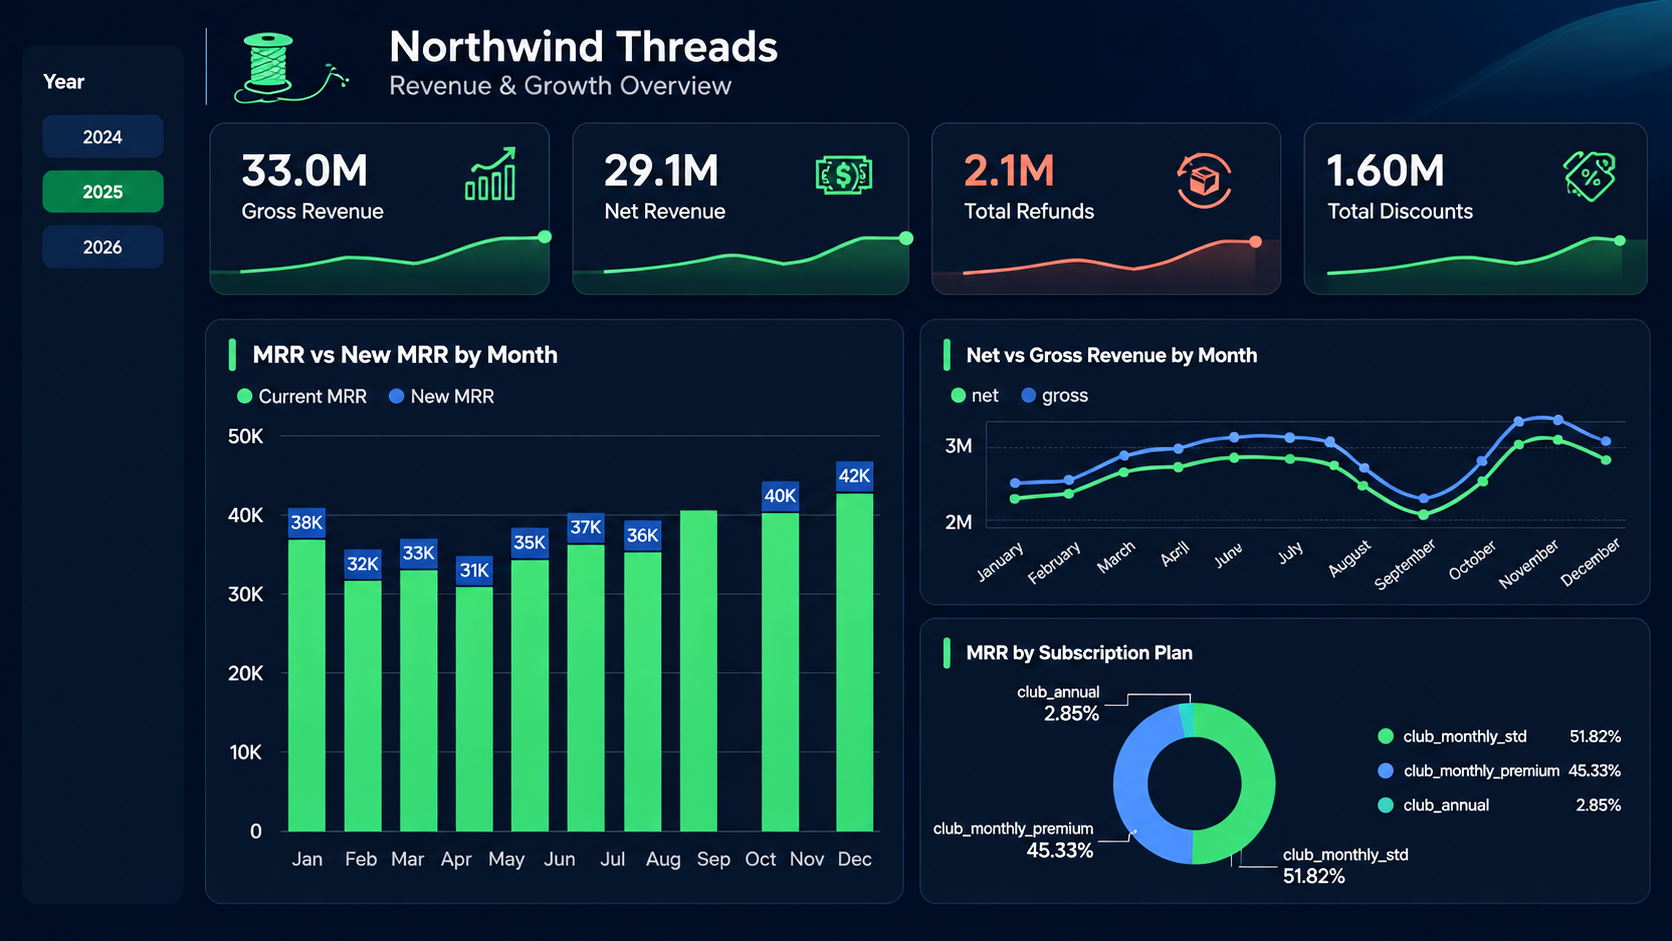

This screenshot's page, from the dashboard's own definition file:
{"tool":"powerbi","page":{"name":"Page 1","canvas":[1280,720],"ordinal":0},"visuals":[{"type":"shape","box":[32,0,1136,688],"z":0},{"type":"shape","box":[640,432,496,240],"z":1000},{"type":"shape","box":[192,224,432,448],"z":2000},{"type":"shape","box":[640,224,496,192],"z":3000},{"type":"shape","box":[176,48,256,176],"z":4000},{"type":"cardVisual","fields":{"Data":["FCT_GROSS_REVENUE.GROSS"]},"box":[155,61,176,80],"z":5000},{"type":"textbox","box":[192,112,96,64],"z":6000},{"type":"image","box":[320,80,80,48],"z":7000},{"type":"shape","box":[416,48,256,176],"z":8000},{"type":"cardVisual","fields":{"Data":["FCT_GROSS_REVENUE.NET"]},"box":[400,59,176,80],"z":9000},{"type":"textbox","box":[417,113,144,64],"z":10000},{"type":"image","box":[560,80,80,48],"z":11000},{"type":"shape","box":[656,48,256,176],"z":12000},{"type":"cardVisual","fields":{"Data":["Sum(FCT_GROSS_REVENUE.TOTAL_REFUNDS)"]},"box":[638,60,176,80],"z":13000},{"type":"textbox","box":[655,113,144,80],"z":14000},{"type":"image","box":[800,80,96,48],"z":15000},{"type":"lineChart","title":"net and gross by month","fields":{"Y":["FCT_GROSS_REVENUE.NET","FCT_GROSS_REVENUE.GROSS"],"Category":["fiscal_main.Month_start.Variation.Date Hierarchy.Month"]},"box":[656,240,464,176],"z":16000},{"type":"columnChart","title":"mrr vs new mrr by month","fields":{"Category":["fiscal_calendar.date_day.Variation.Date Hierarchy.Month"],"Y":["FCT_MRR_MOVEMENTS.Total_MRR","FCT_MRR_MOVEMENTS.NEW_MRR"]},"box":[215.4,244.5,384,416],"z":17000},{"type":"lineChart","fields":{"Y":["FCT_GROSS_REVENUE.GROSS"],"Category":["fiscal_main.Month_start.Variation.Date Hierarchy.Month"]},"box":[272,96,160,112],"z":18000},{"type":"lineChart","fields":{"Y":["FCT_GROSS_REVENUE.NET"],"Category":["fiscal_main.Month_start.Variation.Date Hierarchy.Month"]},"box":[521,81,144,128],"z":19000},{"type":"lineChart","fields":{"Category":["fiscal_main.Month_start.Variation.Date Hierarchy.Month"],"Y":["Sum(FCT_GROSS_REVENUE.TOTAL_REFUNDS)"]},"box":[747,48,160,160],"z":20000},{"type":"shape","box":[894.7,49.8,256,176],"z":21000},{"type":"cardVisual","fields":{"Data":["Sum(FCT_GROSS_REVENUE.TOTAL_DISCOUNTS)"]},"box":[878.7,60.8,176,80],"z":22000},{"type":"textbox","box":[895.7,114.8,144,64],"z":23000},{"type":"lineChart","fields":{"Category":["fiscal_main.Month_start.Variation.Date Hierarchy.Month"],"Y":["Sum(FCT_GROSS_REVENUE.TOTAL_DISCOUNTS)"]},"box":[992,112,154,98],"z":24000},{"type":"donutChart","title":"total mrr by Plan ID","fields":{"Y":["FCT_MRR_MOVEMENTS.Total_MRR"],"Category":["FCT_MRR_MOVEMENTS.PLAN_ID"]},"box":[656,448,464,208],"z":25000},{"type":"image","box":[1056,80,64,48],"z":26000},{"type":"shape","box":[48,16,128,656],"z":27000},{"type":"textbox","box":[188,7,960,48],"z":28000},{"type":"listSlicer","fields":{"Values":["fiscal_calendar.date_day.Variation.Date Hierarchy.Year"]},"box":[52,32,112,320],"z":29000}]}

Visuals, with their boxes in screenshot pixels (x1, y1, x2, y2), scaled from the page's 1280x720 canvas onto the 1672x941 screenshot:
shape: (left=42, top=0, right=1526, bottom=899)
shape: (left=836, top=565, right=1484, bottom=878)
shape: (left=251, top=293, right=815, bottom=878)
shape: (left=836, top=293, right=1484, bottom=544)
shape: (left=230, top=63, right=564, bottom=293)
cardVisual - FCT_GROSS_REVENUE.GROSS: (left=202, top=80, right=432, bottom=184)
textbox: (left=251, top=146, right=376, bottom=230)
image: (left=418, top=105, right=522, bottom=167)
shape: (left=543, top=63, right=878, bottom=293)
cardVisual - FCT_GROSS_REVENUE.NET: (left=522, top=77, right=752, bottom=182)
textbox: (left=545, top=148, right=733, bottom=231)
image: (left=732, top=105, right=836, bottom=167)
shape: (left=857, top=63, right=1191, bottom=293)
cardVisual - Sum(FCT_GROSS_REVENUE.TOTAL_REFUNDS): (left=833, top=78, right=1063, bottom=183)
textbox: (left=856, top=148, right=1044, bottom=252)
image: (left=1045, top=105, right=1170, bottom=167)
"net and gross by month" lineChart: (left=857, top=314, right=1463, bottom=544)
"mrr vs new mrr by month" columnChart: (left=281, top=320, right=783, bottom=863)
lineChart - FCT_GROSS_REVENUE.GROSS x fiscal_main.Month_start.Variation.Date Hierarchy.Month: (left=355, top=125, right=564, bottom=272)
lineChart - FCT_GROSS_REVENUE.NET x fiscal_main.Month_start.Variation.Date Hierarchy.Month: (left=681, top=106, right=869, bottom=273)
lineChart - fiscal_main.Month_start.Variation.Date Hierarchy.Month x Sum(FCT_GROSS_REVENUE.TOTAL_REFUNDS): (left=976, top=63, right=1185, bottom=272)
shape: (left=1169, top=65, right=1503, bottom=295)
cardVisual - Sum(FCT_GROSS_REVENUE.TOTAL_DISCOUNTS): (left=1148, top=79, right=1378, bottom=184)
textbox: (left=1170, top=150, right=1358, bottom=234)
lineChart - fiscal_main.Month_start.Variation.Date Hierarchy.Month x Sum(FCT_GROSS_REVENUE.TOTAL_DISCOUNTS): (left=1296, top=146, right=1497, bottom=274)
"total mrr by Plan ID" donutChart: (left=857, top=586, right=1463, bottom=857)
image: (left=1379, top=105, right=1463, bottom=167)
shape: (left=63, top=21, right=230, bottom=878)
textbox: (left=246, top=9, right=1500, bottom=72)
listSlicer - fiscal_calendar.date_day.Variation.Date Hierarchy.Year: (left=68, top=42, right=214, bottom=460)
